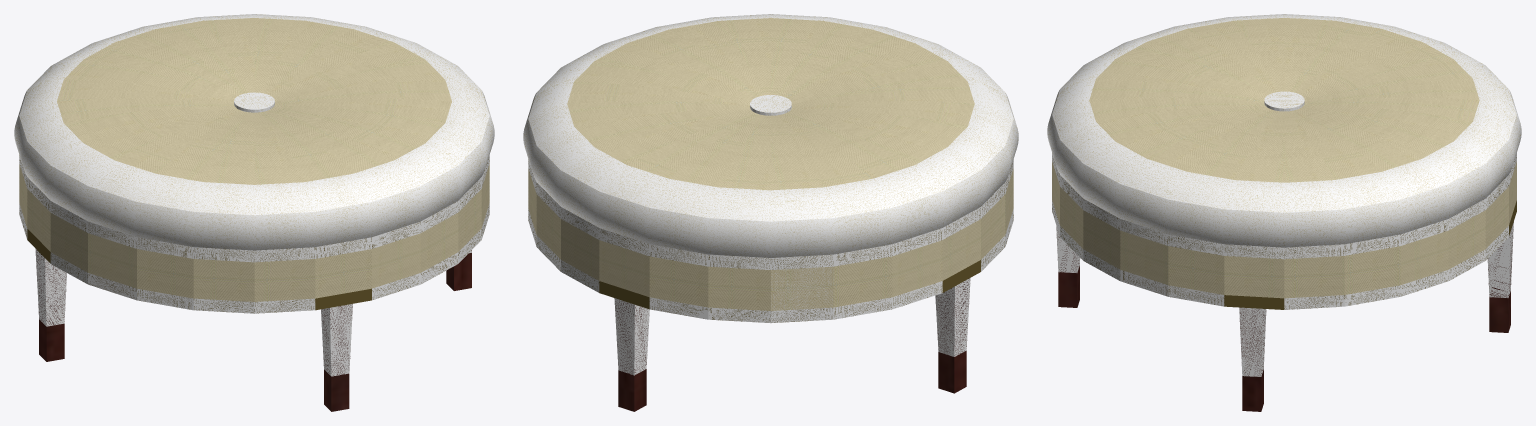
3 views of the same model, side by side, from view 1: azimuth 30°, elevation 25°; view 2: azimuth 150°, elevation 25°; view 3: azimuth 270°, elevation 25° (orthographic). The views are drawn at different scales.
Parts seen in each view (by area): view 1: SketchUp (×9); view 2: SketchUp (×8); view 3: SketchUp (×9).
Boxes of the visible parts, bbox=[...] form: SketchUp (×9): bbox=[14, 14, 494, 411]; SketchUp (×8): bbox=[523, 14, 1018, 411]; SketchUp (×9): bbox=[1047, 14, 1521, 411].
Bounding box in the file's own units: 36.99 × 36.99 × 18.87.
Materials: 5 (2 with a texture image).
